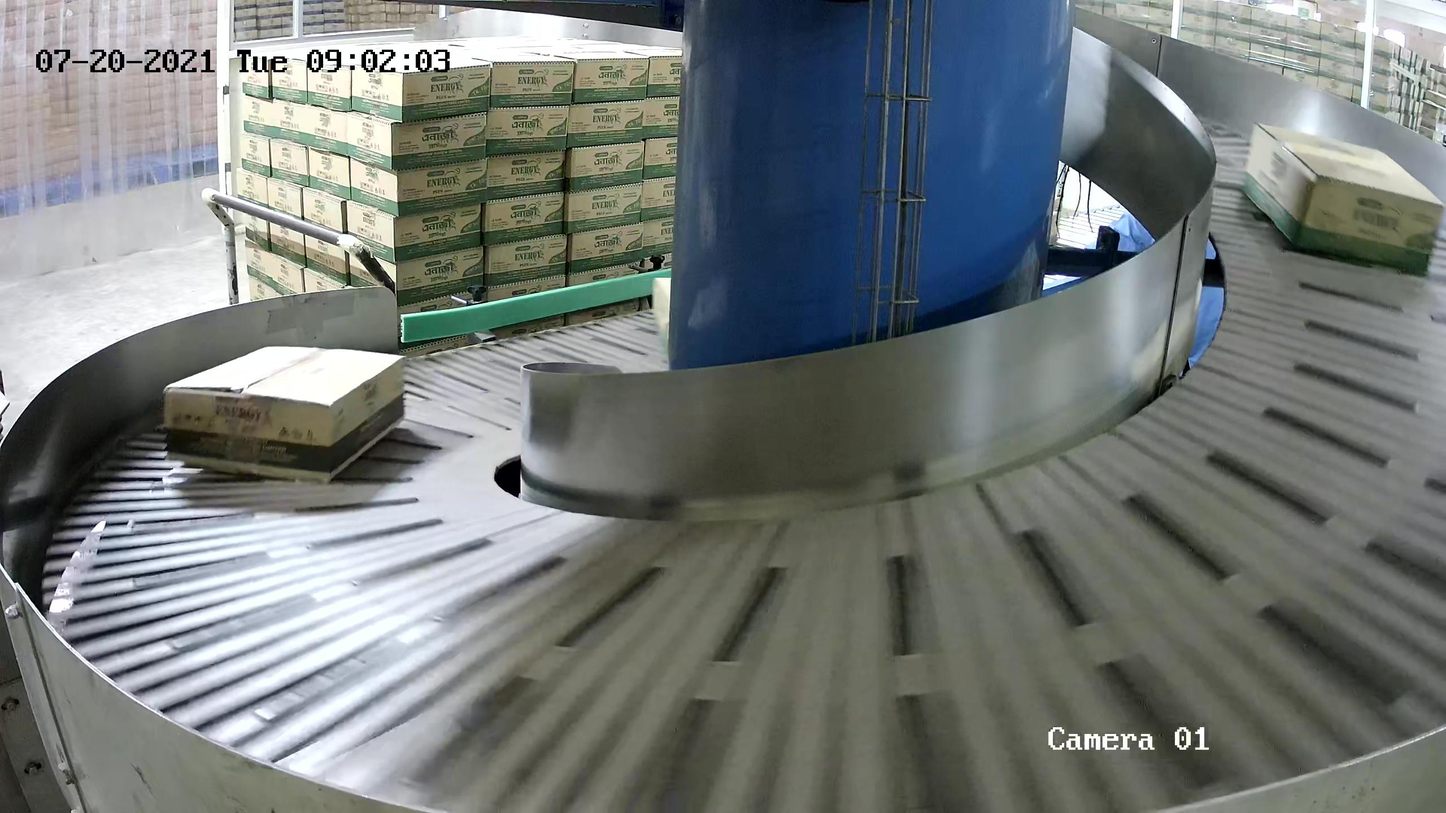Box: (163, 345, 407, 486), (1240, 120, 1445, 281)
